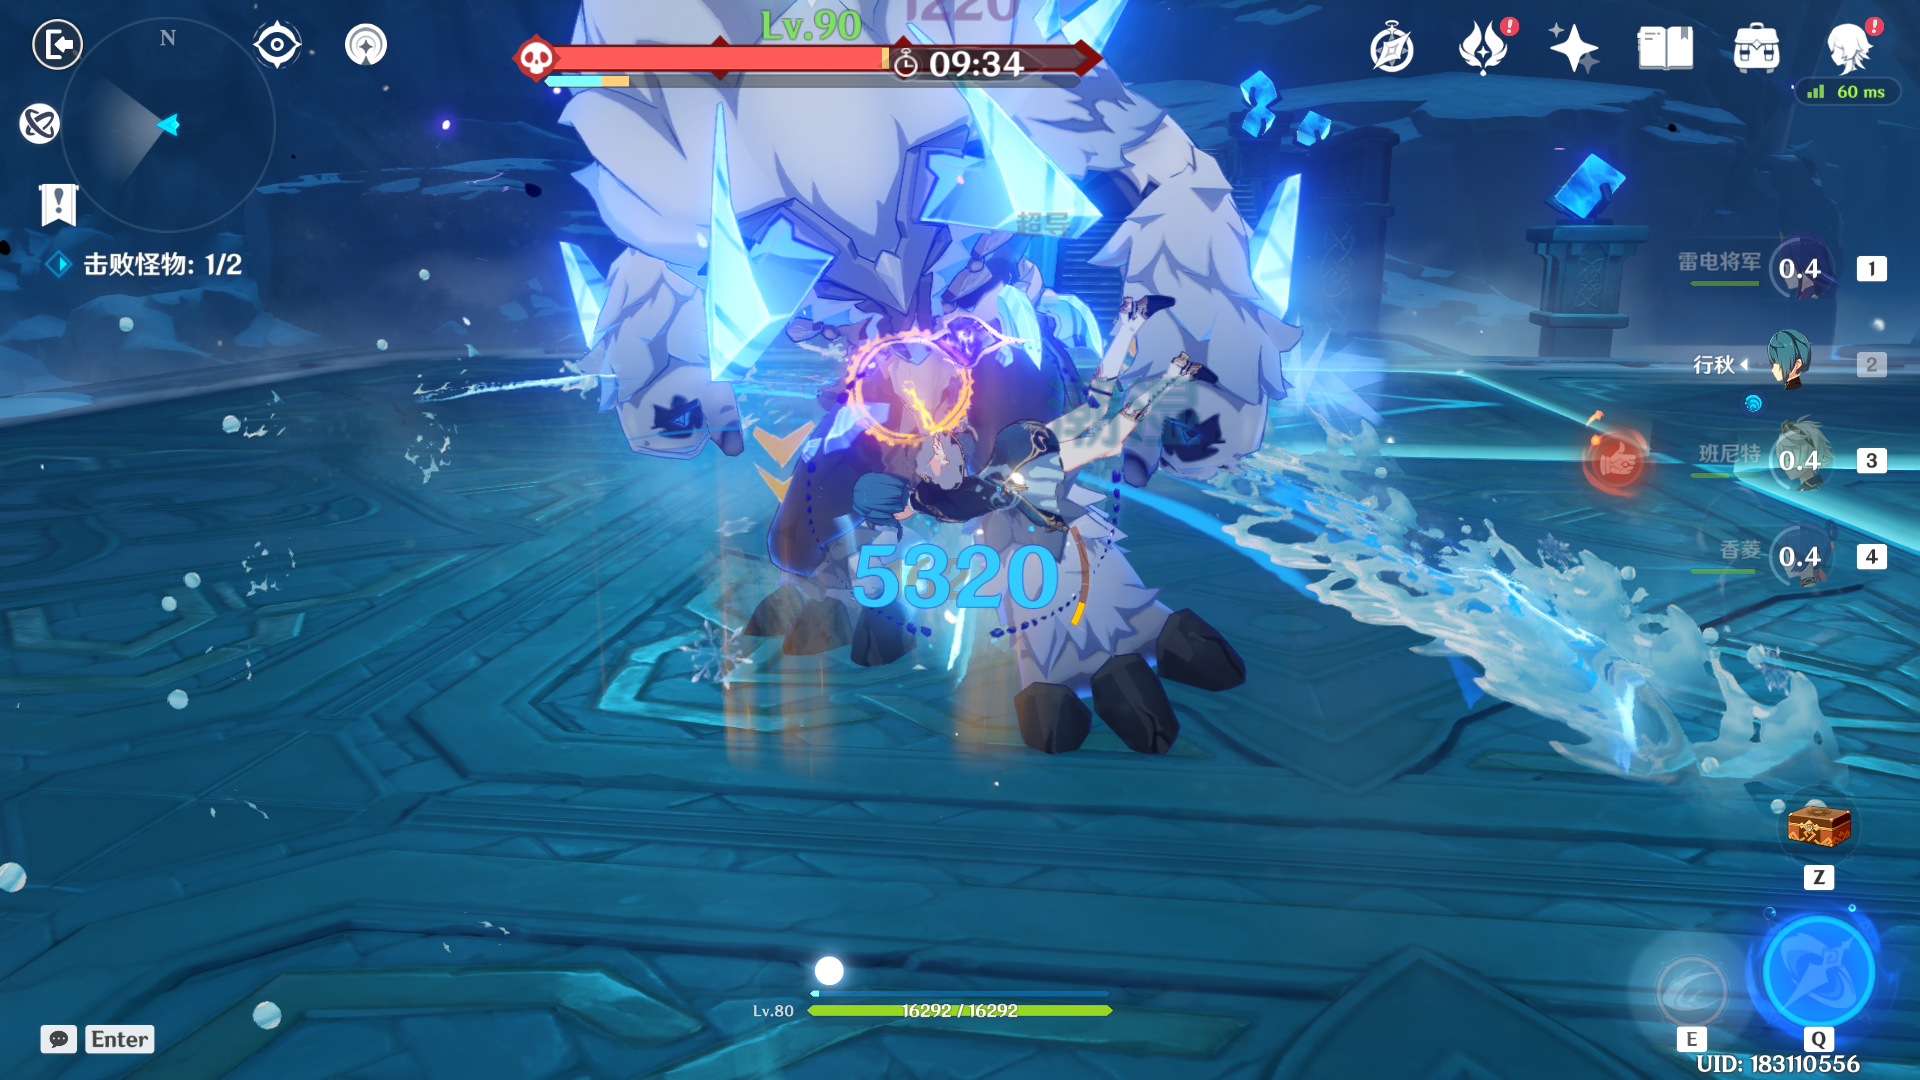bosshili: (419, 1, 1327, 808)
